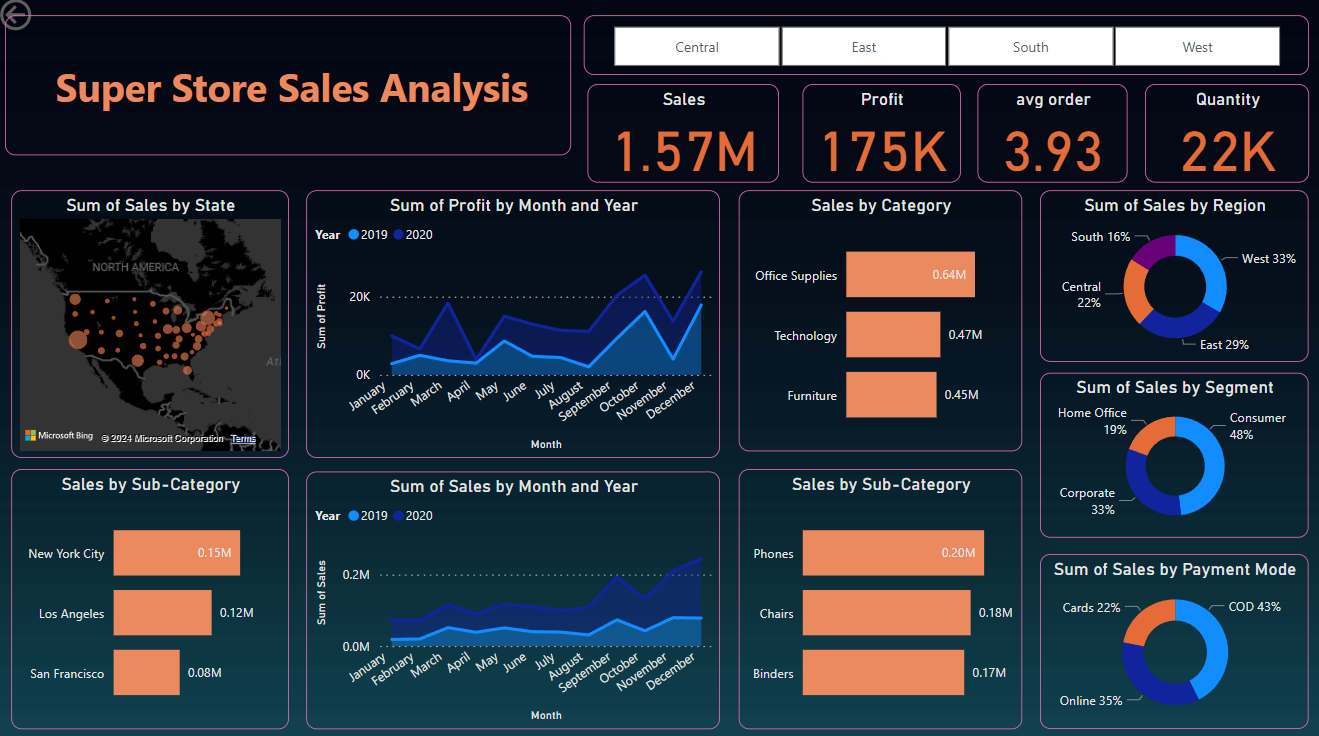

This screenshot's page, from the dashboard's own definition file:
{"tool":"powerbi","page":{"name":"Dashboard","canvas":[1280,720],"ordinal":0},"visuals":[{"type":"clusteredBarChart","title":"Sales by Category","fields":{"Category":["SuperStore_Sales_Dataset.Category"],"Y":["Sum(SuperStore_Sales_Dataset.Sales)"]},"box":[717.8,189.4,273.9,252.1],"z":0},{"type":"clusteredBarChart","title":"Sales by Sub-Category","fields":{"Y":["Sum(SuperStore_Sales_Dataset.Sales)"],"Category":["SuperStore_Sales_Dataset.Sub-Category"]},"box":[717.8,458.4,273.9,250.9],"z":1000},{"type":"stackedAreaChart","fields":{"Category":["SuperStore_Sales_Dataset.Order Date.Variation.Date Hierarchy.Month","SuperStore_Sales_Dataset.Order Date.Variation.Date Hierarchy.Day"],"Y":["Sum(SuperStore_Sales_Dataset.Sales)"],"Series":["SuperStore_Sales_Dataset.Order Date.Variation.Date Hierarchy.Year"]},"box":[300.4,460.9,399.3,248.5],"z":2000},{"type":"stackedAreaChart","fields":{"Category":["SuperStore_Sales_Dataset.Order Date.Variation.Date Hierarchy.Month","SuperStore_Sales_Dataset.Order Date.Variation.Date Hierarchy.Day"],"Series":["SuperStore_Sales_Dataset.Order Date.Variation.Date Hierarchy.Year"],"Y":["Sum(SuperStore_Sales_Dataset.Profit)"]},"box":[300.4,189.4,399.3,258.2],"z":3000},{"type":"actionButton","box":[0,0,100,40],"z":4000},{"type":"donutChart","fields":{"Y":["Sum(SuperStore_Sales_Dataset.Sales)"],"Category":["SuperStore_Sales_Dataset.Segment"]},"box":[1008.6,365.6,259.4,159.3],"z":5000},{"type":"donutChart","fields":{"Y":["Sum(SuperStore_Sales_Dataset.Sales)"],"Category":["SuperStore_Sales_Dataset.Region"]},"box":[1008.6,189.4,259.4,165.3],"z":6000},{"type":"donutChart","fields":{"Y":["Sum(SuperStore_Sales_Dataset.Sales)"],"Category":["SuperStore_Sales_Dataset.Payment Mode","SuperStore_Sales_Dataset.Segment"]},"box":[1008.6,540.5,259.4,168.9],"z":7000},{"type":"slicer","fields":{"Values":["SuperStore_Sales_Dataset.Region"]},"box":[568.2,20.5,699.7,57.9],"z":8000},{"type":"textbox","box":[9.7,20.5,546.5,135.1],"z":9000},{"type":"card","title":"Sales","fields":{"Values":["Sum(SuperStore_Sales_Dataset.Sales)"]},"box":[571.9,86.8,184.8,95.5],"z":10000},{"type":"card","title":"Quantity","fields":{"Values":["Sum(SuperStore_Sales_Dataset.Quantity)"]},"box":[1110.3,86.8,158.8,95.5],"z":11000},{"type":"card","title":"Profit","fields":{"Values":["Sum(SuperStore_Sales_Dataset.Profit)"]},"box":[779.1,86.8,152.6,95.5],"z":12000},{"type":"card","title":"avg order","fields":{"Values":["Avg(SuperStore_Sales_Dataset.avg order)"]},"box":[947.8,86.8,145.1,95.5],"z":13000},{"type":"clusteredBarChart","title":"Sales by Sub-Category","fields":{"Y":["Sum(SuperStore_Sales_Dataset.Sales)"],"Category":["SuperStore_Sales_Dataset.City"]},"box":[15.7,458.4,267.8,250.9],"z":14000},{"type":"map","fields":{"Size":["Sum(SuperStore_Sales_Dataset.Sales)"],"Category":["SuperStore_Sales_Dataset.State"]},"box":[15.7,189.4,267.8,258.2],"z":15000}]}

Visuals, with their boxes in screenshot pixels (x1, y1, x2, y2), scaled from the page's 1280x720 canvas onto the 1319x736 screenshot:
"Sales by Category" clusteredBarChart: 740/194/1022/451
"Sales by Sub-Category" clusteredBarChart: 740/469/1022/725
stackedAreaChart - SuperStore_Sales_Dataset.Order Date.Variation.Date Hierarchy.Month x SuperStore_Sales_Dataset.Order Date.Variation.Date Hierarchy.Day: 310/471/721/725
stackedAreaChart - SuperStore_Sales_Dataset.Order Date.Variation.Date Hierarchy.Month x SuperStore_Sales_Dataset.Order Date.Variation.Date Hierarchy.Day: 310/194/721/458
actionButton: 0/0/103/41
donutChart - Sum(SuperStore_Sales_Dataset.Sales) x SuperStore_Sales_Dataset.Segment: 1039/374/1307/537
donutChart - Sum(SuperStore_Sales_Dataset.Sales) x SuperStore_Sales_Dataset.Region: 1039/194/1307/363
donutChart - Sum(SuperStore_Sales_Dataset.Sales) x SuperStore_Sales_Dataset.Payment Mode: 1039/553/1307/725
slicer - SuperStore_Sales_Dataset.Region: 586/21/1307/80
textbox: 10/21/573/159
"Sales" card: 589/89/780/186
"Quantity" card: 1144/89/1308/186
"Profit" card: 803/89/960/186
"avg order" card: 977/89/1126/186
"Sales by Sub-Category" clusteredBarChart: 16/469/292/725
map - Sum(SuperStore_Sales_Dataset.Sales) x SuperStore_Sales_Dataset.State: 16/194/292/458
